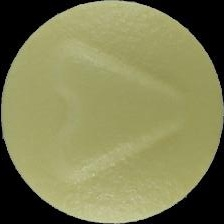67046-163: (0, 0, 224, 224)
